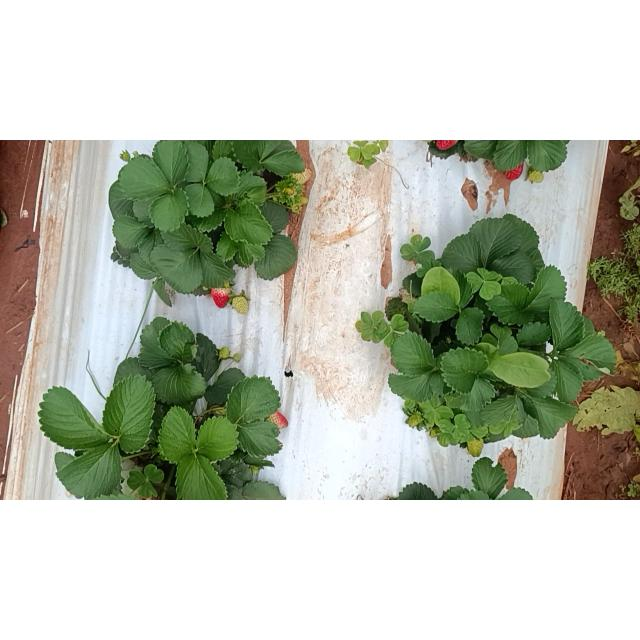maduro: (432, 140, 462, 150)
no-maduro: (231, 294, 251, 316), (290, 165, 312, 185), (468, 436, 484, 456), (528, 168, 544, 184)
semi-maduro: (264, 410, 290, 430), (211, 286, 233, 308)
